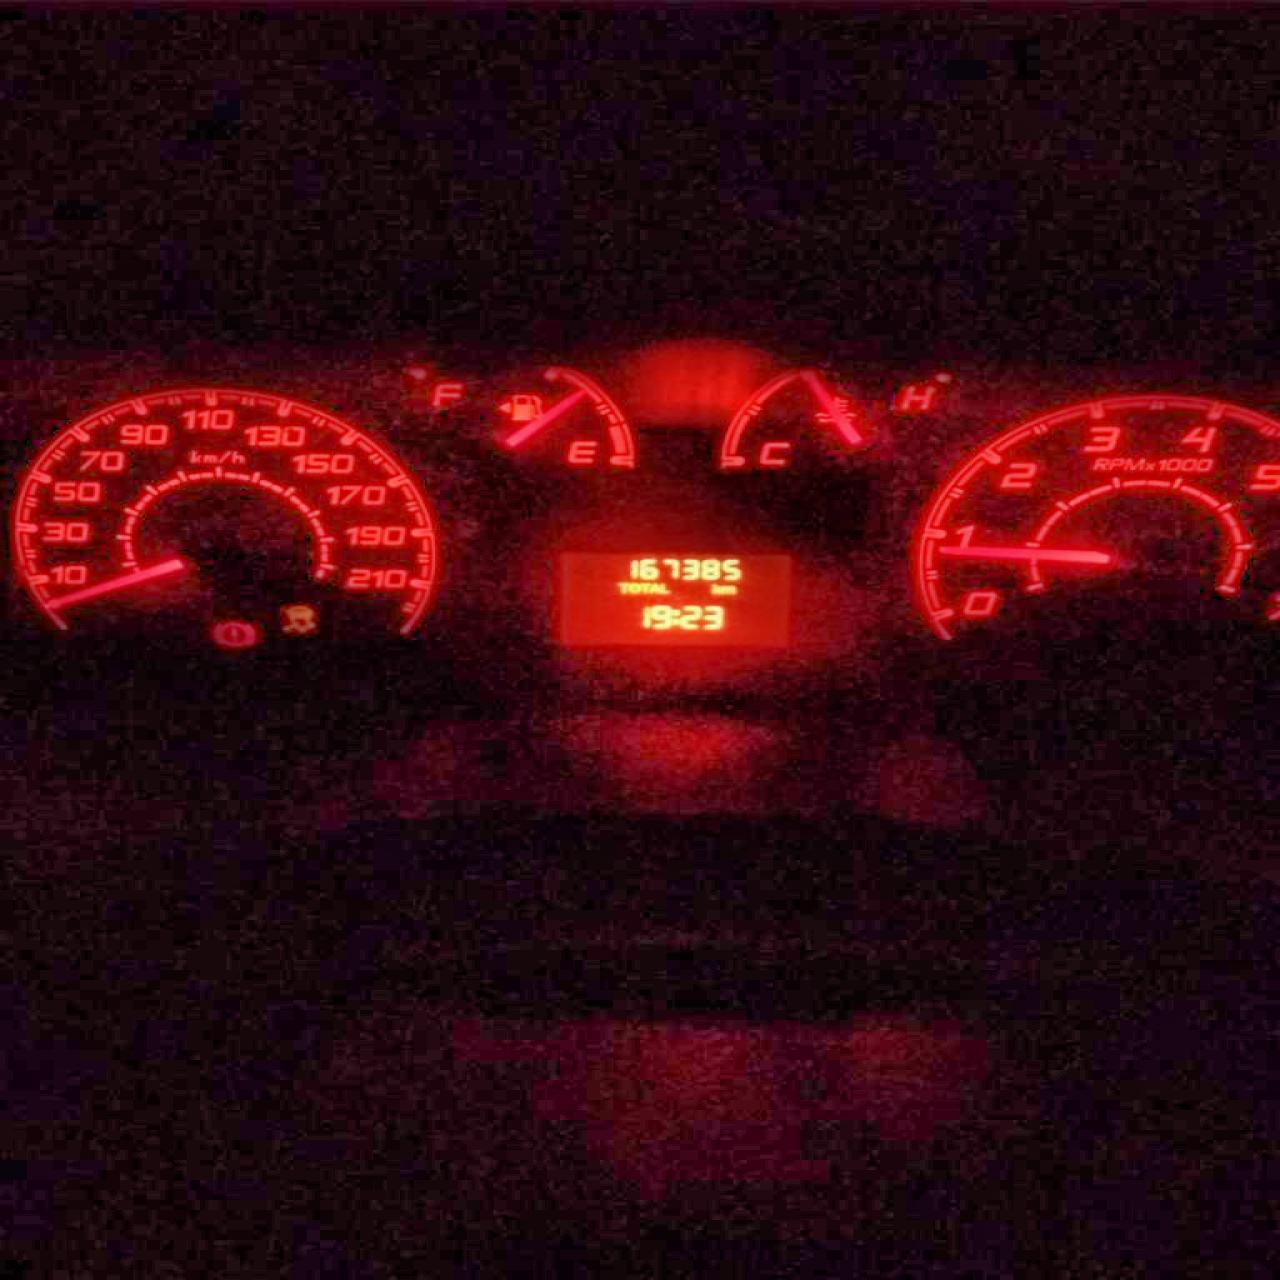1: (640, 604, 651, 629), (628, 557, 636, 578)
2: (680, 604, 702, 628)
3: (701, 604, 722, 628), (680, 558, 699, 580)
5: (720, 558, 740, 580)
6: (639, 556, 659, 580)
7: (662, 557, 679, 579)
8: (700, 556, 720, 580)
9: (651, 602, 670, 628)
X: (720, 584, 737, 594), (627, 580, 640, 594), (615, 580, 627, 594), (659, 581, 669, 594), (672, 606, 679, 625), (710, 581, 720, 595), (649, 581, 659, 594), (640, 580, 648, 594)
odometer: (550, 545, 803, 653)
